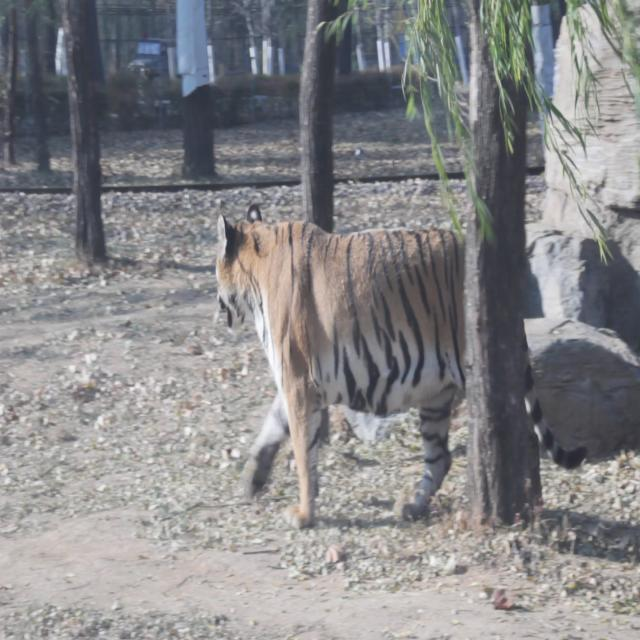Tiger: (198, 186, 590, 547)
